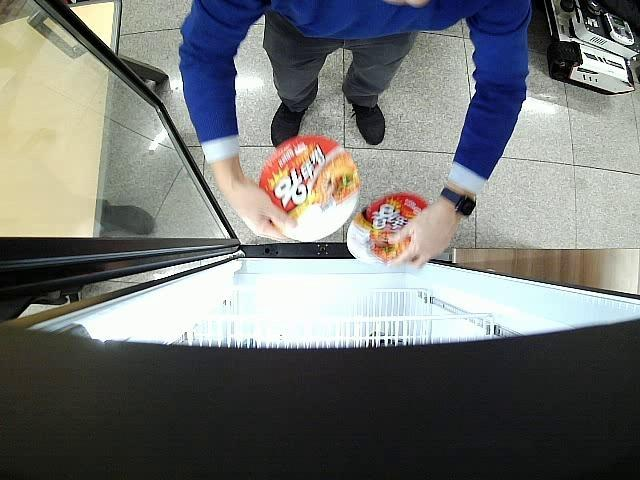10_wangTtukkeong: (260, 135, 360, 242), (347, 193, 428, 266)
